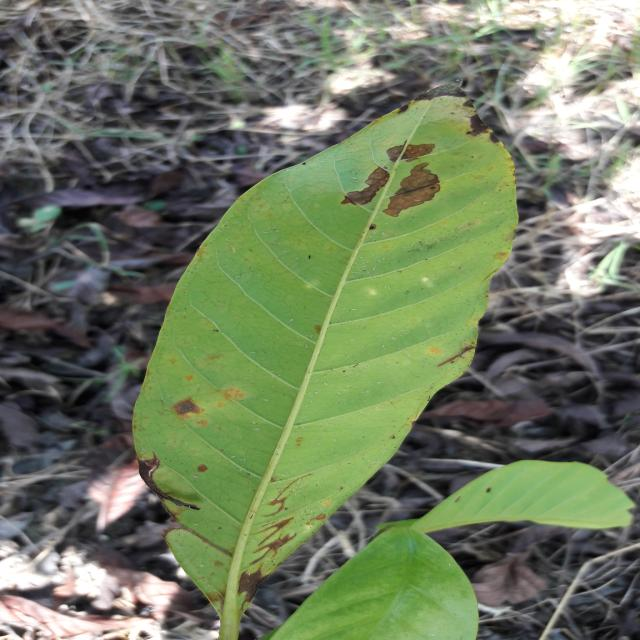Enfermedad-Roya: (131, 96, 519, 640)
